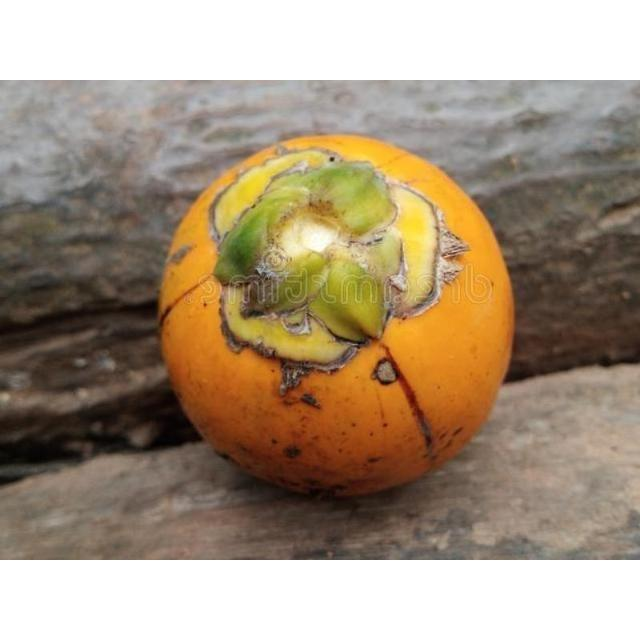good: (158, 134, 516, 502)
